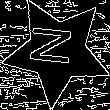N_E: (30, 28, 84, 74)
